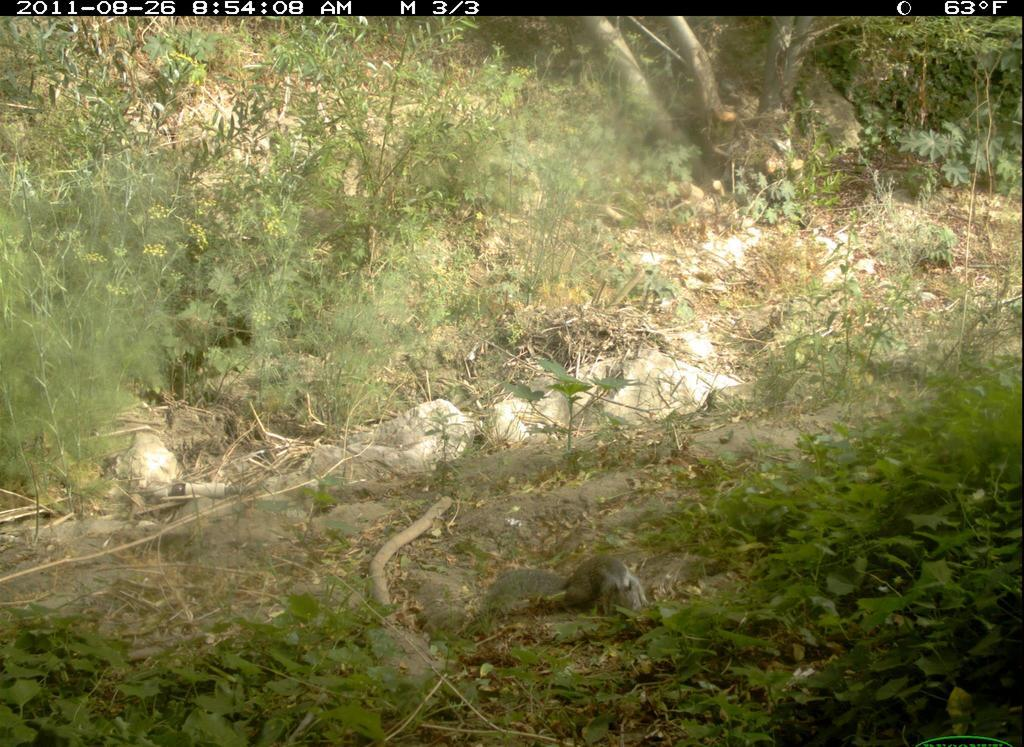squirrel: (477, 545, 667, 638)
